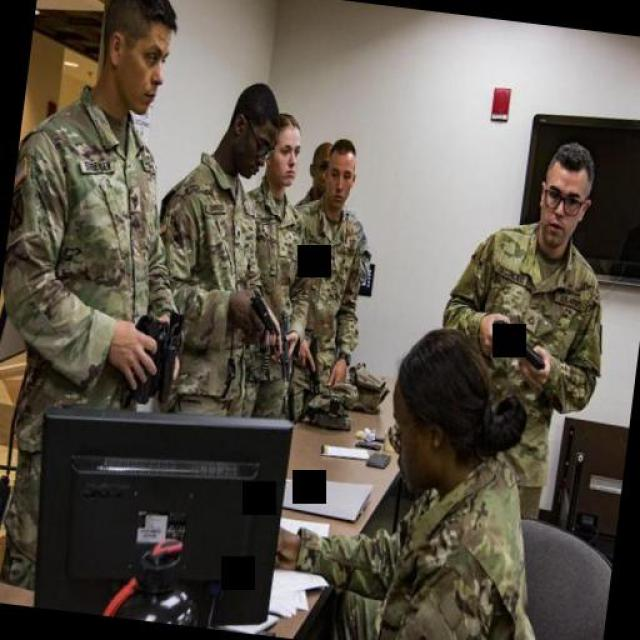gun: (484, 311, 550, 385), (240, 285, 280, 341), (298, 328, 328, 392), (272, 316, 298, 384)
